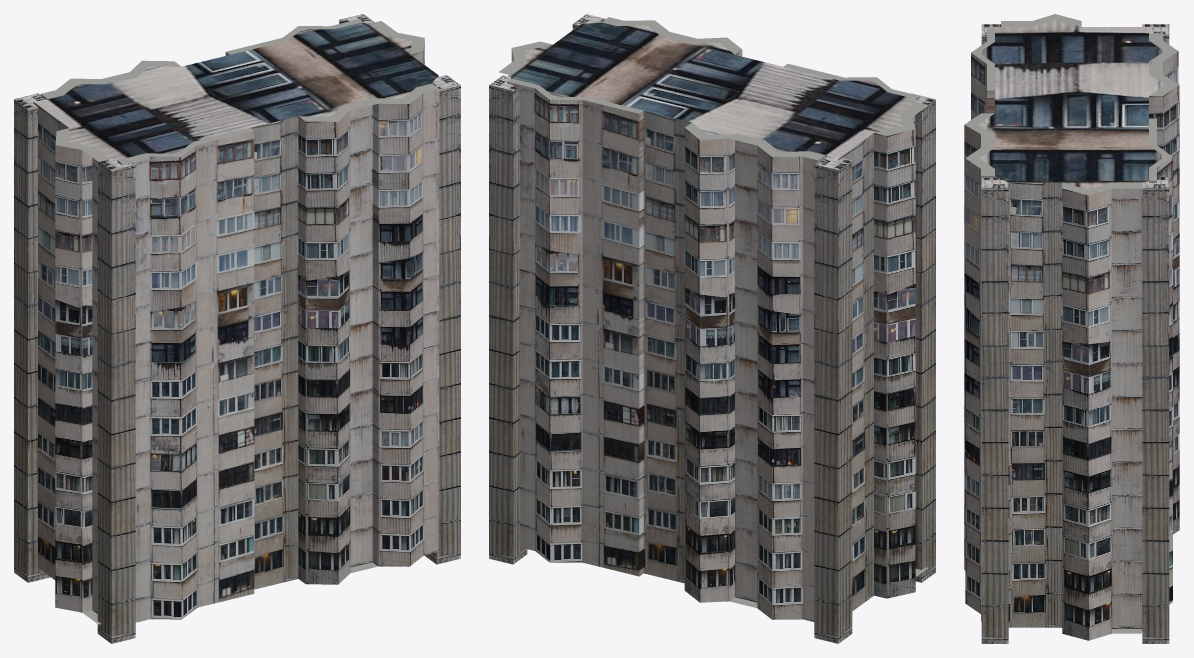
The model's file is apartment_corner.glb.
The picture shows the model from 3 angles, left to right: view 1: azimuth 30°, elevation 25°; view 2: azimuth 150°, elevation 25°; view 3: azimuth 270°, elevation 25°; orthographic projection. The views are drawn at different scales.
Visible parts, largest first — view 1: apartment_corner; view 2: apartment_corner; view 3: apartment_corner.
Part boxes in pixels (<box>): apartment_corner: <box>14,14,460,643</box>; apartment_corner: <box>489,14,935,643</box>; apartment_corner: <box>964,14,1179,643</box>.
Bounding box in the file's own units: 27.69 × 32.54 × 13.88.
Materials: 1 (1 with a texture image).
